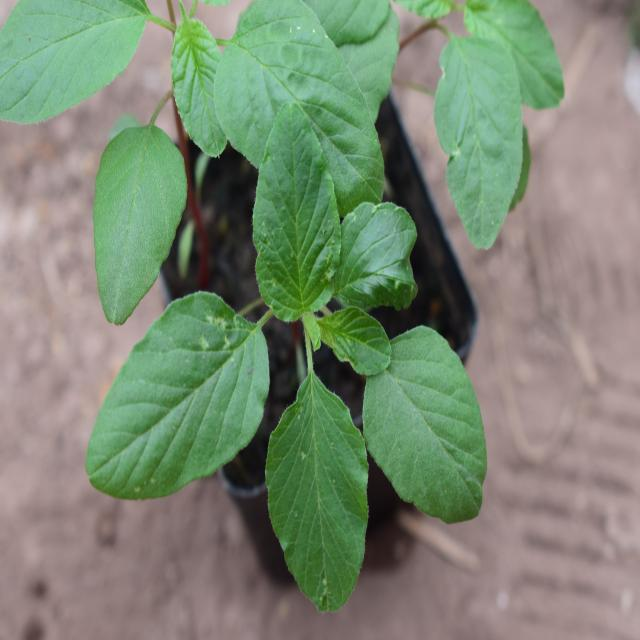pigweed: (86, 132, 493, 556)
